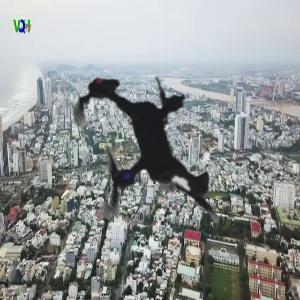drone: (4, 12, 283, 291)
